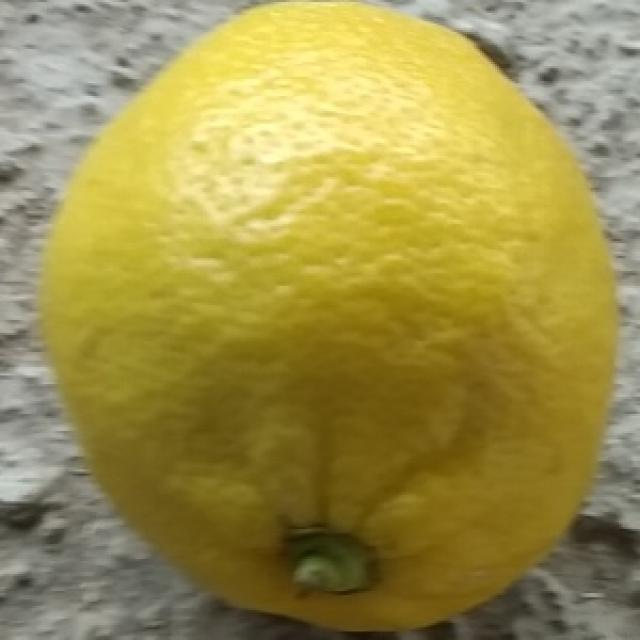Ripe: (33, 0, 628, 640)
